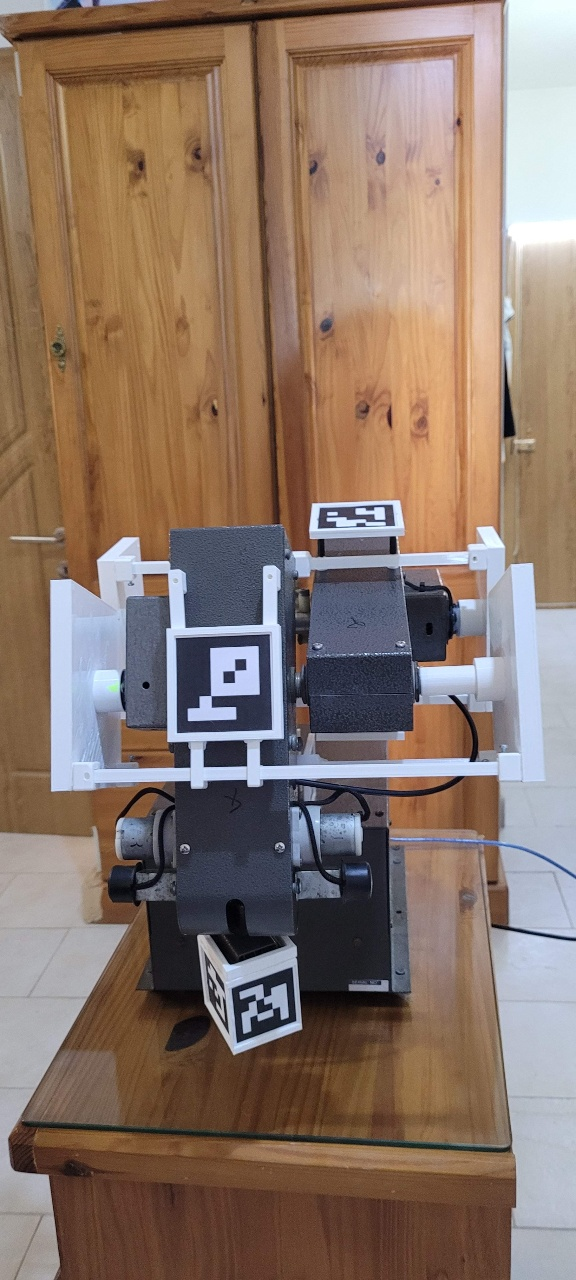Robot: (47, 498, 551, 1059)
